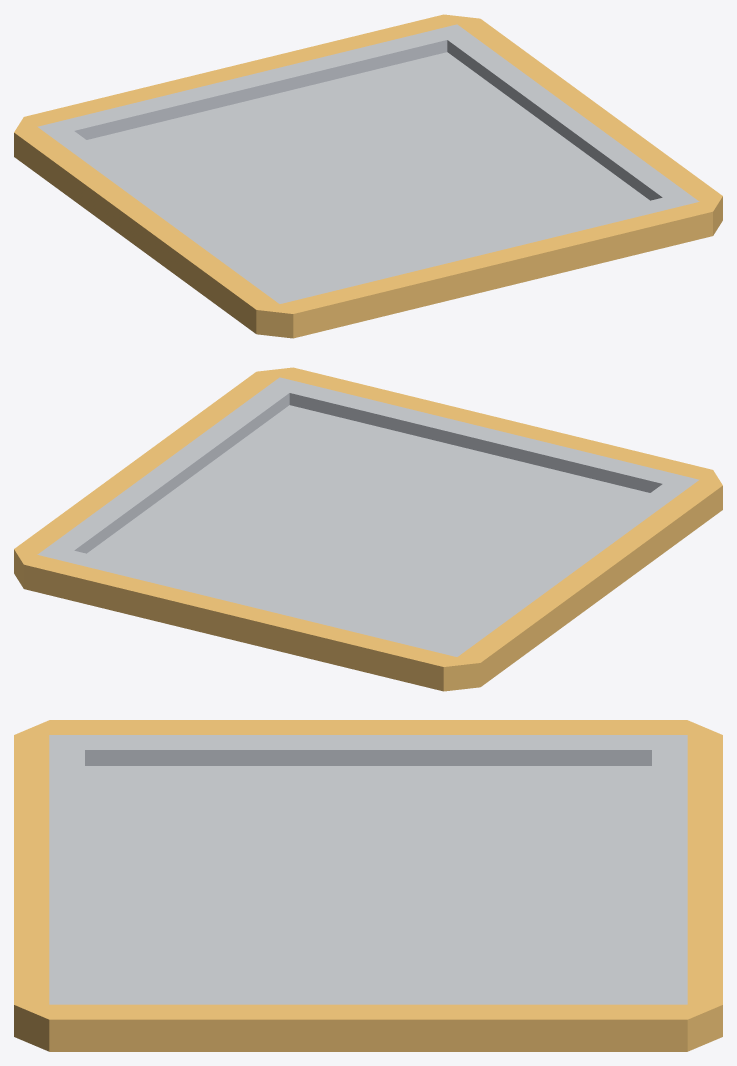
Rendered from platform_large.glb.
3 renders of one model, top to bottom at view 1: azimuth 30°, elevation 25°; view 2: azimuth 150°, elevation 25°; view 3: azimuth 270°, elevation 25°, orthographic. The views are drawn at different scales.
Visible parts, largest first — view 1: platform_large; view 2: platform_large; view 3: platform_large.
Part boxes in pixels (box(x1,y1,x2,y2)): platform_large: box(14, 14, 722, 338); platform_large: box(14, 367, 722, 691); platform_large: box(14, 720, 722, 1051).
Bounding box in the file's own units: 2 × 0.1 × 2.
